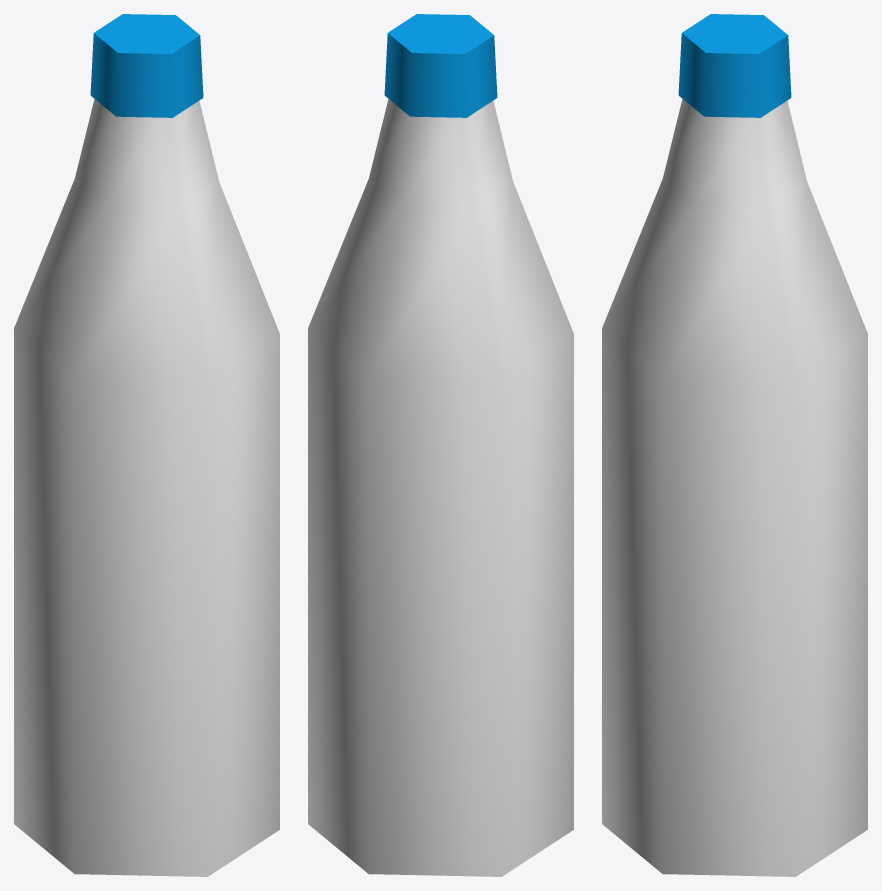
The model's file is drink_002.glb.
3 views of the same model, side by side, from view 1: azimuth 30°, elevation 25°; view 2: azimuth 150°, elevation 25°; view 3: azimuth 270°, elevation 25° (orthographic).
Visible parts, largest first — view 1: drink_002; view 2: drink_002; view 3: drink_002.
Part boxes in pixels (bbox=[...]): drink_002: bbox=[14, 14, 279, 876]; drink_002: bbox=[308, 14, 573, 876]; drink_002: bbox=[602, 14, 867, 876].
Bounding box in the file's own units: 0.0802 × 0.2961 × 0.09.
Materials: 1 (1 with a texture image).
